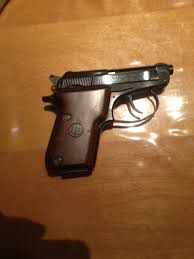gun: (43, 60, 179, 182)
